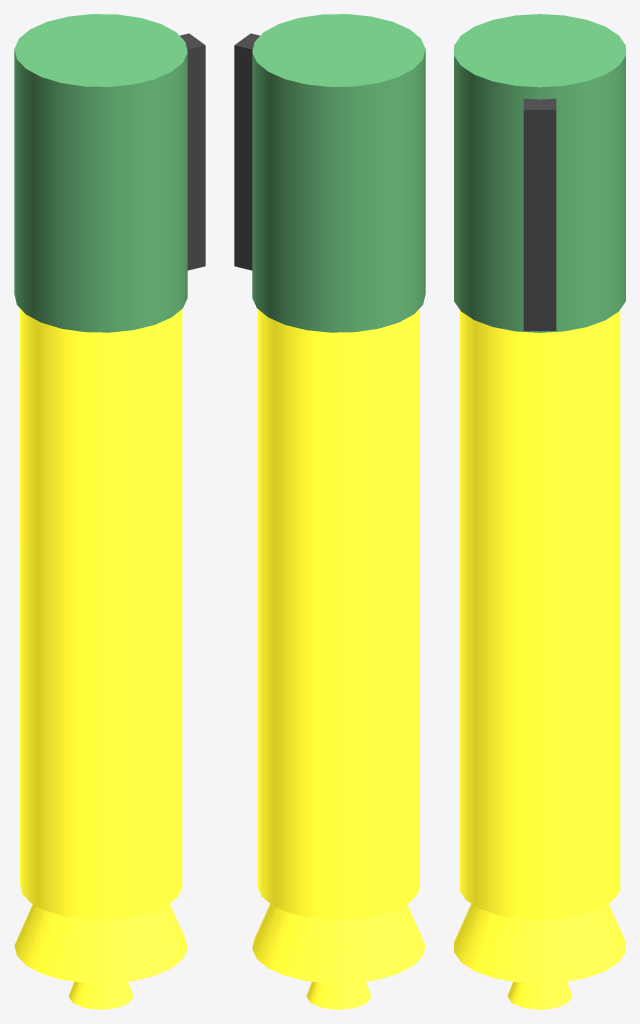
File: stabilo.glb
3 renders of one model, left to right at view 1: azimuth 30°, elevation 25°; view 2: azimuth 150°, elevation 25°; view 3: azimuth 270°, elevation 25°, orthographic.
Visible parts, largest first — view 1: stabilo_Mesh; view 2: stabilo_Mesh; view 3: stabilo_Mesh.
Boxes of the visible parts, x1,y1,x2,y2 form: stabilo_Mesh: (14, 14, 205, 1009); stabilo_Mesh: (234, 14, 425, 1009); stabilo_Mesh: (454, 14, 625, 1009).
Bounding box in the file's own units: 0.073 × 0.385 × 0.0633.
